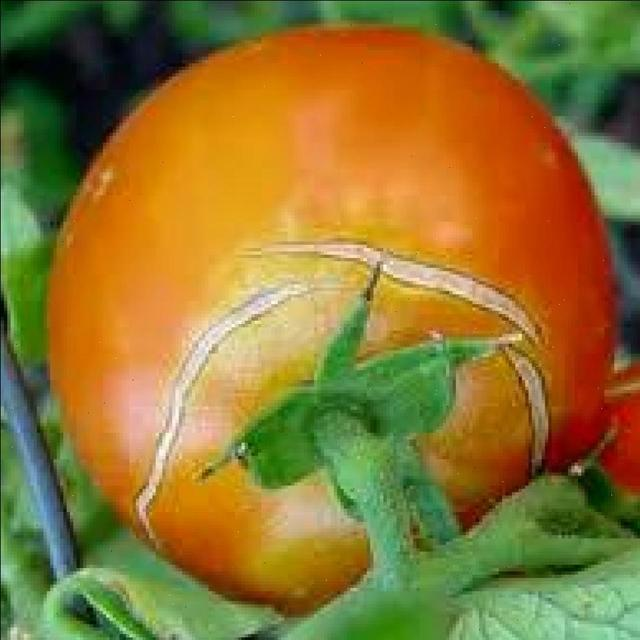Cracking Fruit: (67, 114, 338, 277)
